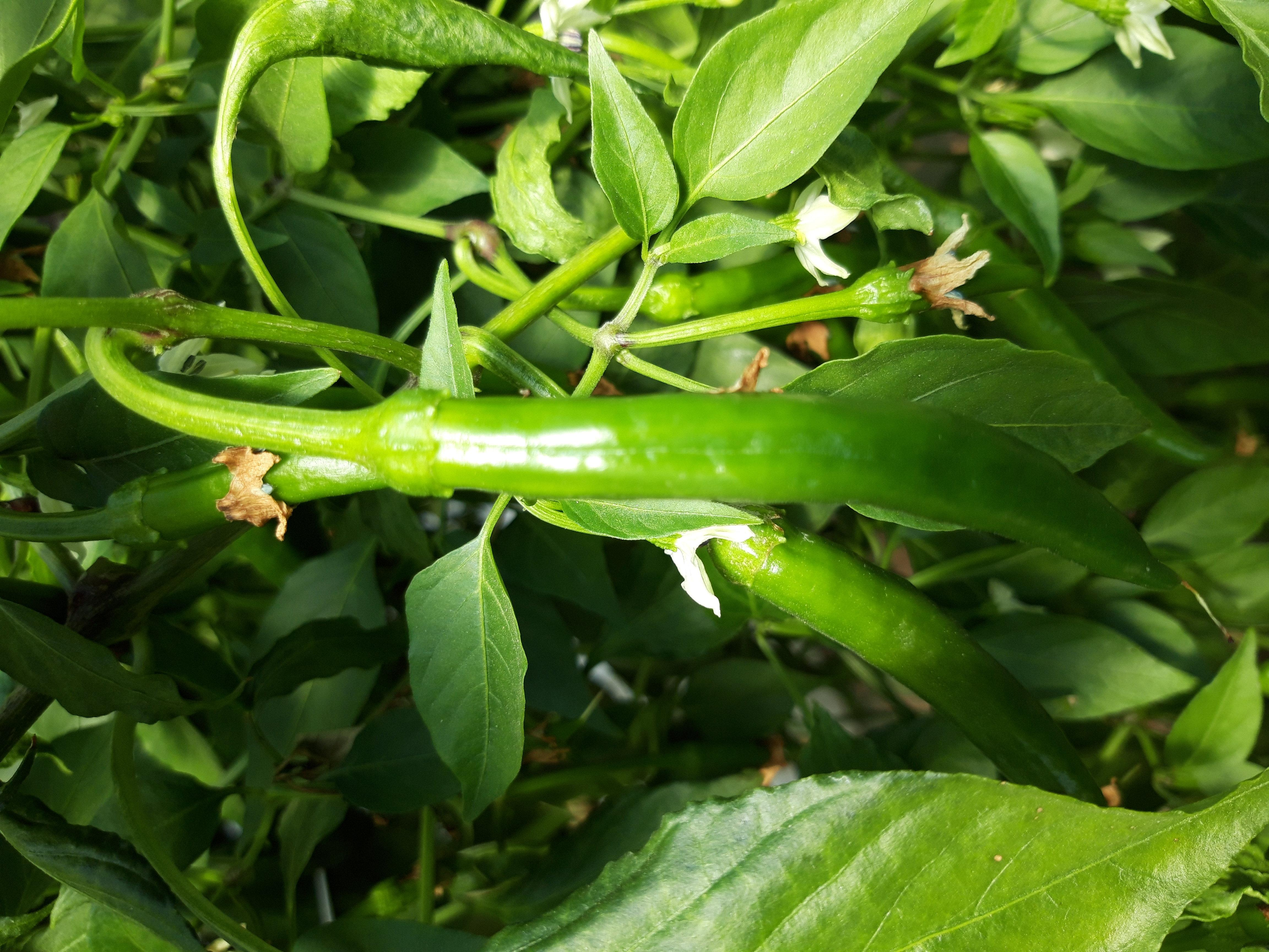Buah Cabai Sehat: (352, 387, 1186, 597), (710, 507, 1118, 806)
Daun Cabai Sehat: (465, 769, 1269, 952), (392, 544, 536, 837)
